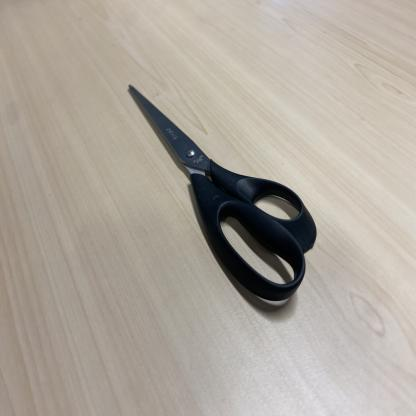scissors: (126, 83, 318, 301)
